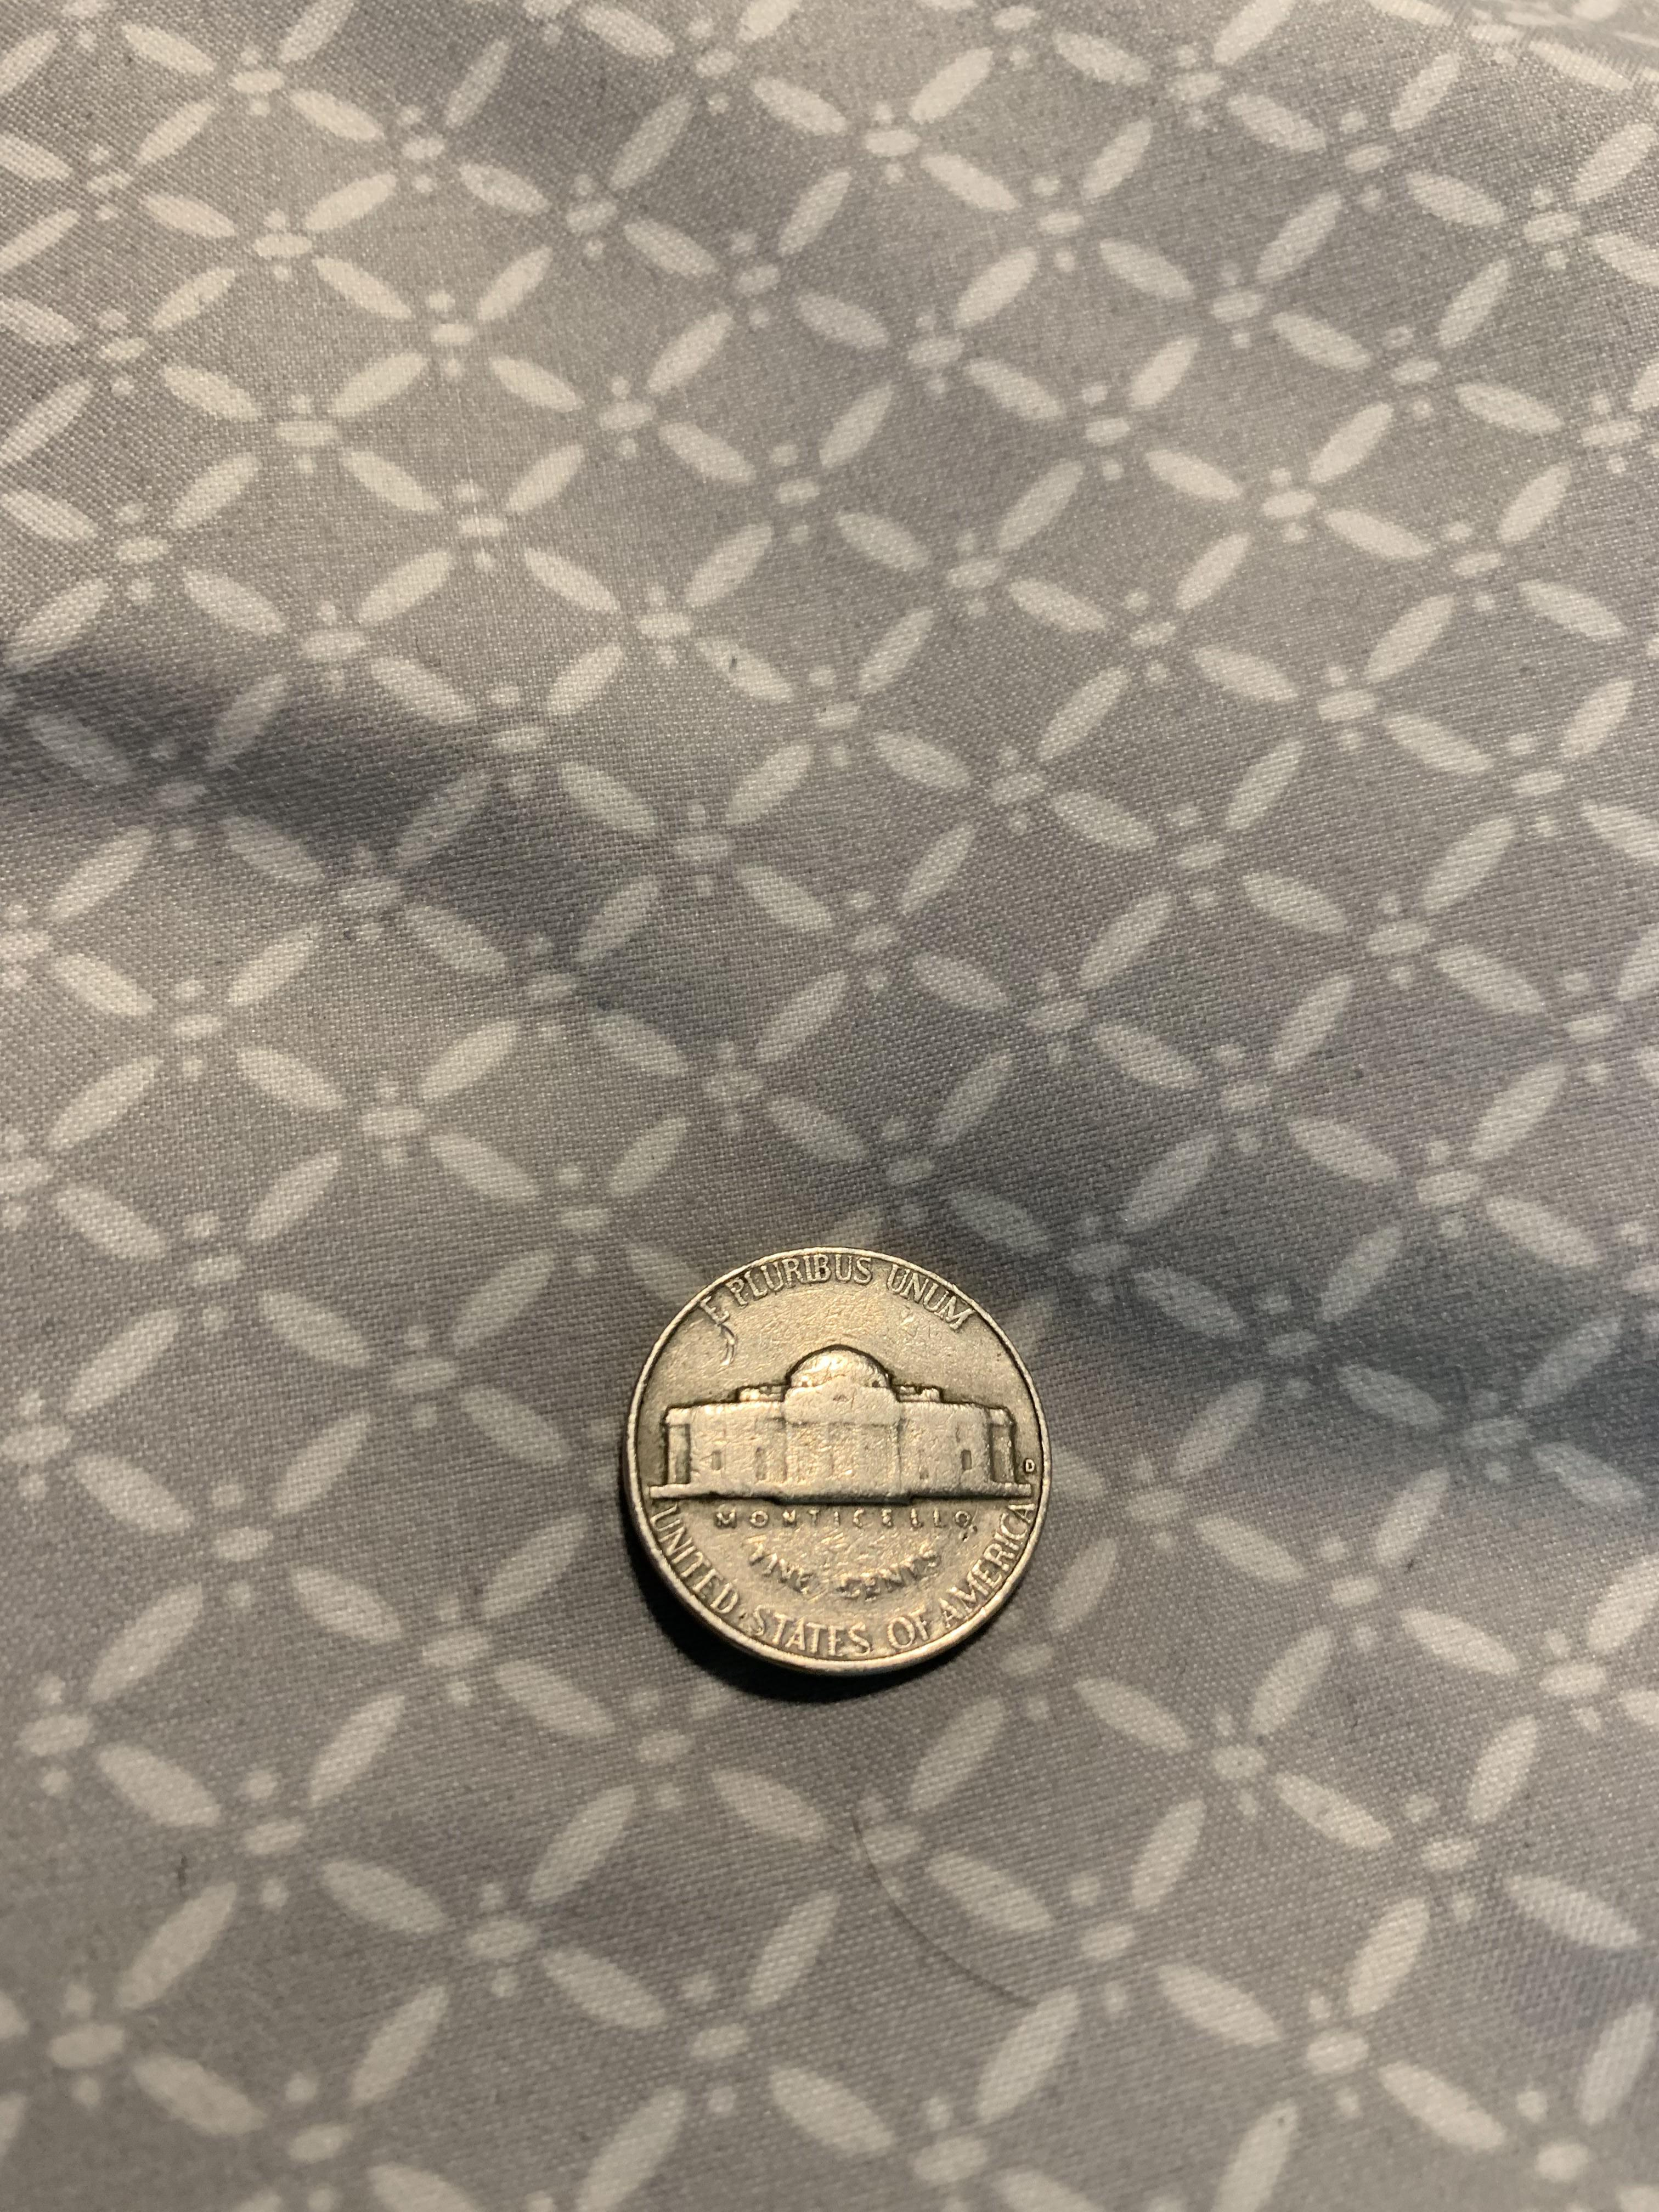Nickel: (603, 1224, 1072, 1703)
